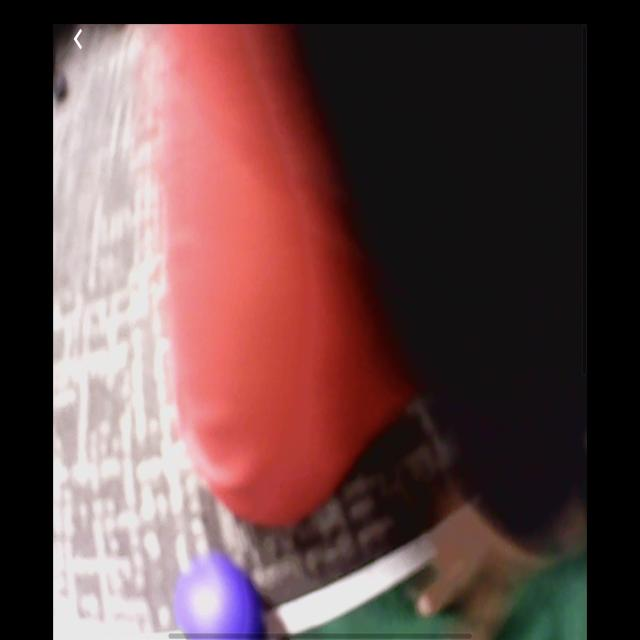ball: (173, 557, 263, 640)
